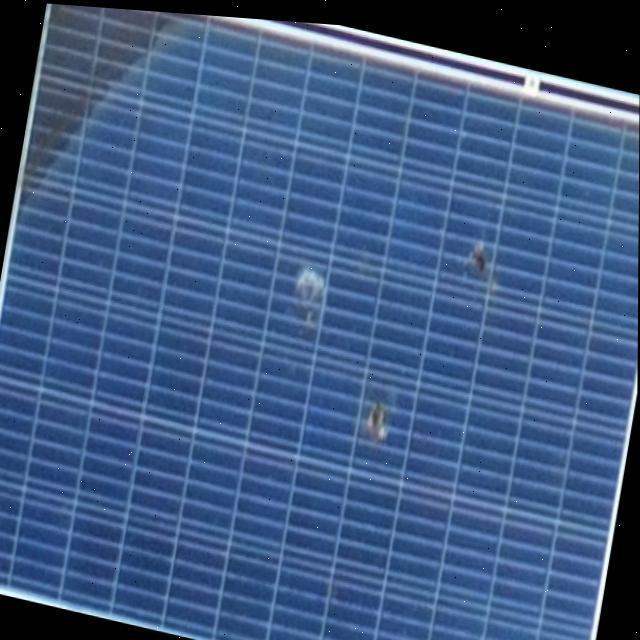Surface Contaminant: (262, 178, 509, 467), (16, 3, 186, 243)
